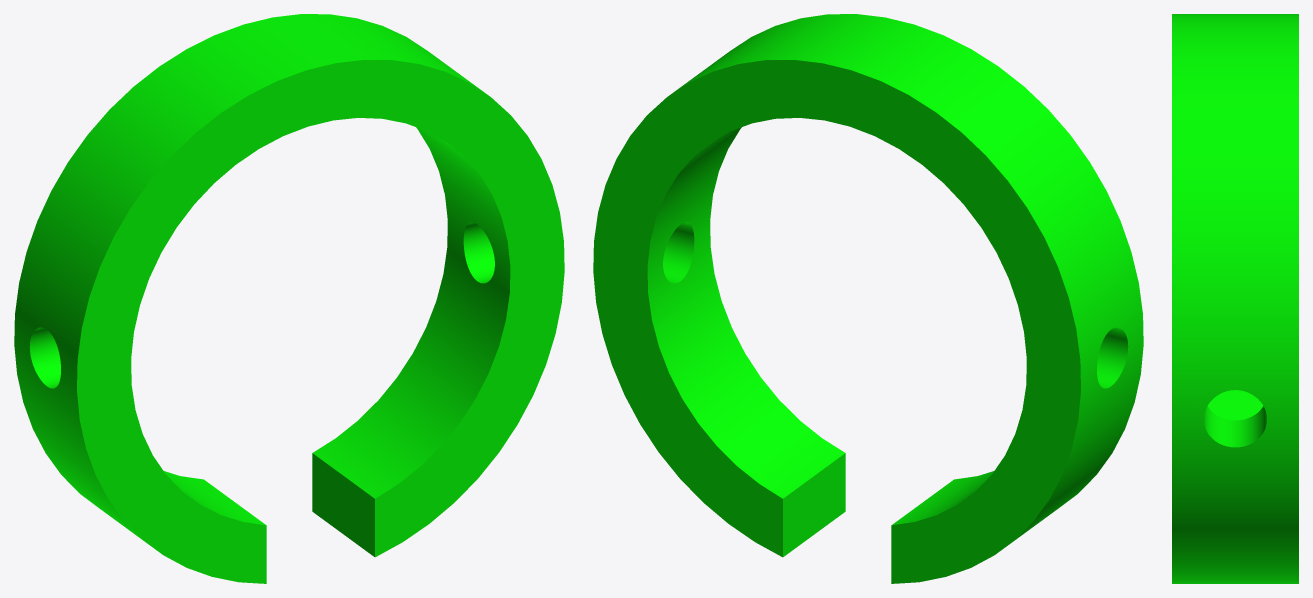
File: YAxisDisc.obj
The picture shows the model from 3 angles, left to right: view 1: azimuth 30°, elevation 25°; view 2: azimuth 150°, elevation 25°; view 3: azimuth 270°, elevation 25°; orthographic projection.
Parts seen in each view (by area): view 1: |XAxis|Root|color; view 2: |XAxis|Root|color; view 3: |XAxis|Root|color.
Part boxes in pixels (left/top/right/bottom): |XAxis|Root|color: left=14, top=14, right=564, bottom=583; |XAxis|Root|color: left=593, top=14, right=1143, bottom=583; |XAxis|Root|color: left=1172, top=14, right=1298, bottom=583.
Size of the model in its own units: 0.09 by 0.0888 by 0.02.
